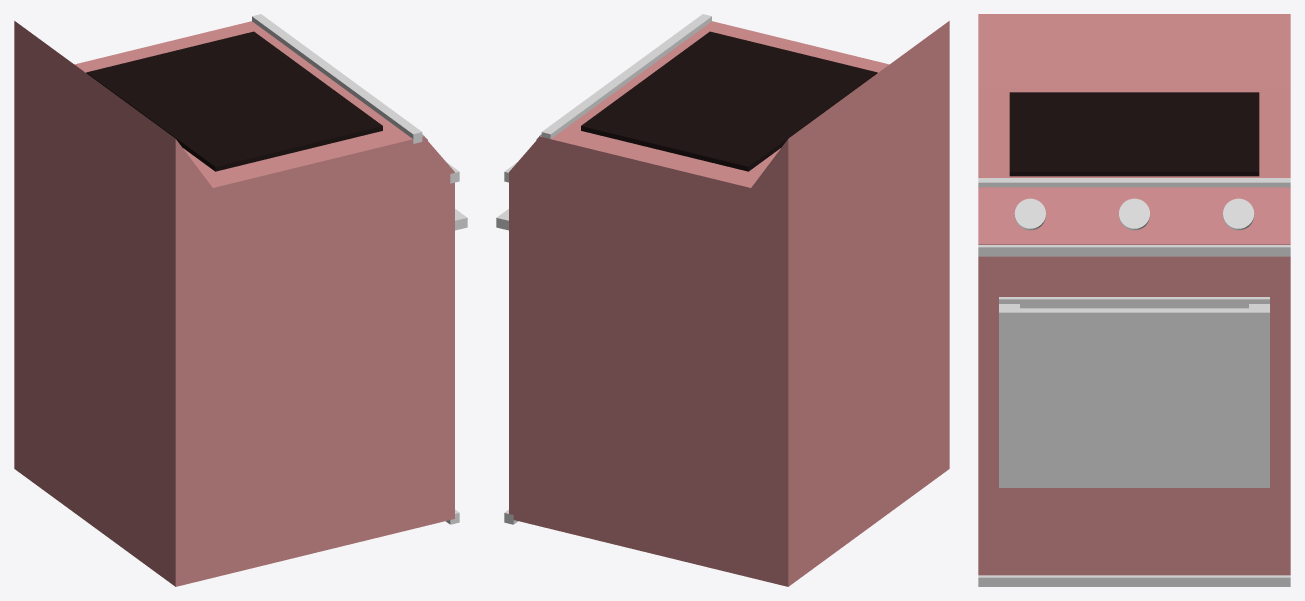
Rendered from E_Cooker.fbx.
The picture shows the model from 3 angles, left to right: view 1: azimuth 30°, elevation 25°; view 2: azimuth 150°, elevation 25°; view 3: azimuth 270°, elevation 25°; orthographic projection. The views are drawn at different scales.
Parts seen in each view (by area): view 1: Cube, Cubo.001, Cubo.002; view 2: Cube, Cubo.001, Cubo.002; view 3: Cube, Cubo.003, Cubo.001, Cubo.005, Cubo.004, Cubo.006, Cubo.002, Cilindro.001, Cilindro.002, Cilindro.
Part boxes in pixels (box(x1,y1,x2,y2)): Cube: box(14, 21, 454, 586); Cubo.001: box(86, 31, 382, 171); Cubo.002: box(252, 14, 422, 143); Cube: box(509, 21, 949, 586); Cubo.001: box(581, 31, 877, 171); Cubo.002: box(541, 14, 711, 138); Cube: box(978, 14, 1290, 575); Cubo.003: box(999, 297, 1269, 487); Cubo.001: box(1009, 92, 1259, 176); Cubo.005: box(999, 304, 1269, 321); Cubo.004: box(978, 245, 1290, 256); Cubo.006: box(978, 575, 1290, 586); Cubo.002: box(978, 178, 1290, 187); Cilindro.001: box(1014, 198, 1045, 230); Cilindro.002: box(1223, 198, 1254, 230); Cilindro: box(1119, 198, 1149, 230).
Size of the model in its own units: 325 by 465 by 300.
